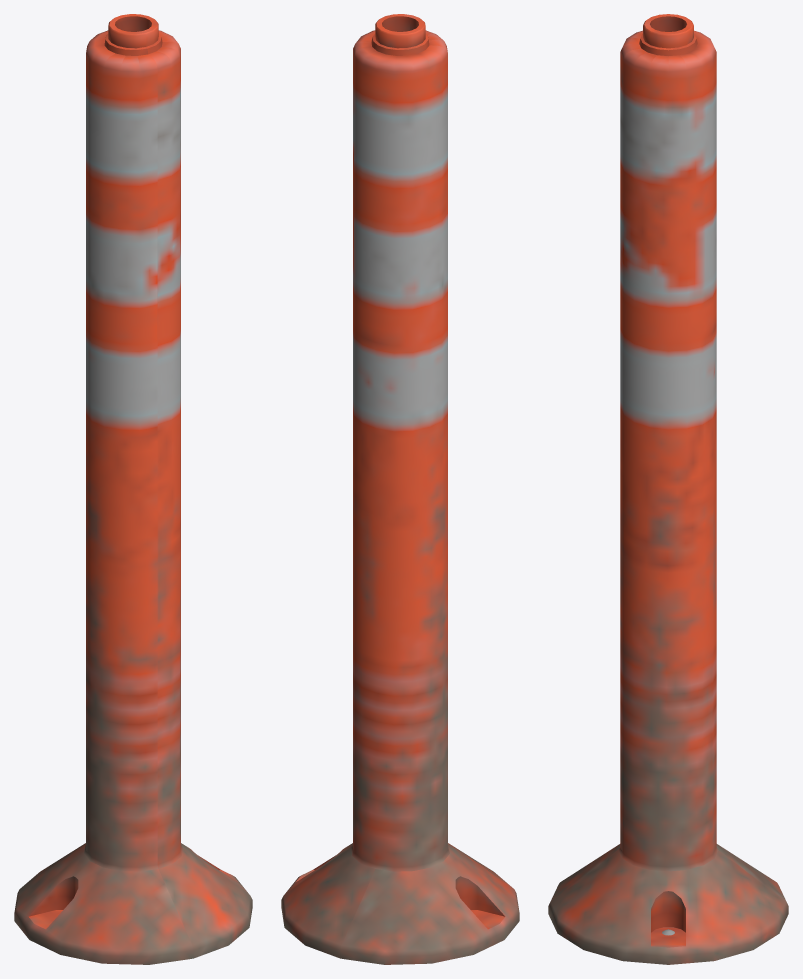
File: SM_Cone_2_Bollard.fbx
The picture shows the model from 3 angles, left to right: view 1: azimuth 30°, elevation 25°; view 2: azimuth 150°, elevation 25°; view 3: azimuth 270°, elevation 25°; orthographic projection.
Visible parts, largest first — view 1: SM_Cone_2_Bollard_LOD0; view 2: SM_Cone_2_Bollard_LOD0; view 3: SM_Cone_2_Bollard_LOD0.
Boxes of the visible parts, x1=… form: SM_Cone_2_Bollard_LOD0: x1=14, y1=14, x2=252, y2=964; SM_Cone_2_Bollard_LOD0: x1=281, y1=14, x2=519, y2=964; SM_Cone_2_Bollard_LOD0: x1=548, y1=14, x2=788, y2=964.
Bounding box in the file's own units: 24 × 24 × 98.16.
1 material, 1 textured.
